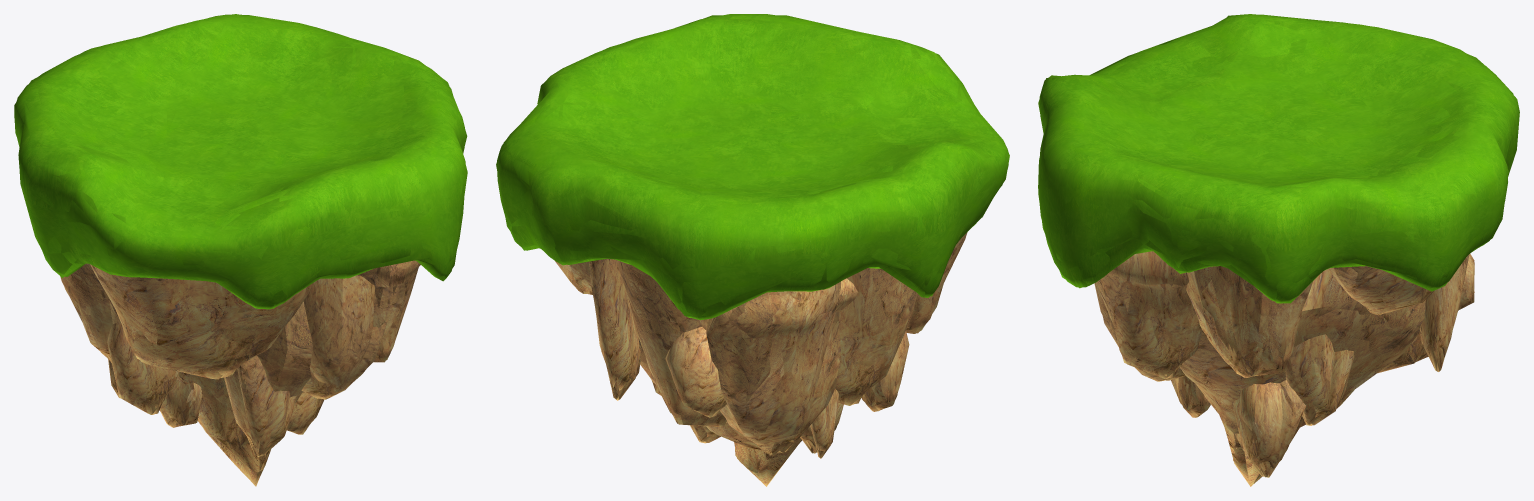
The model's file is Floating_GardenALOD.fbx.
3 renders of one model, left to right at view 1: azimuth 30°, elevation 25°; view 2: azimuth 150°, elevation 25°; view 3: azimuth 270°, elevation 25°, orthographic. The views are drawn at different scales.
Visible parts, largest first — view 1: Floating_Land_A.LOD1, Floating_Land_A.LOD2; view 2: Floating_Land_A.LOD1, Floating_Land_A.LOD2; view 3: Floating_Land_A.LOD1, Floating_Land_A.LOD2.
Part boxes in pixels (x1,y1,x2,y2): Floating_Land_A.LOD1: [14, 14, 465, 481]; Floating_Land_A.LOD2: [14, 14, 467, 486]; Floating_Land_A.LOD1: [497, 14, 1008, 484]; Floating_Land_A.LOD2: [496, 15, 1009, 486]; Floating_Land_A.LOD1: [1038, 14, 1519, 483]; Floating_Land_A.LOD2: [1038, 14, 1519, 486].
Size of the model in its own units: 51.99 by 46.55 by 52.12.
